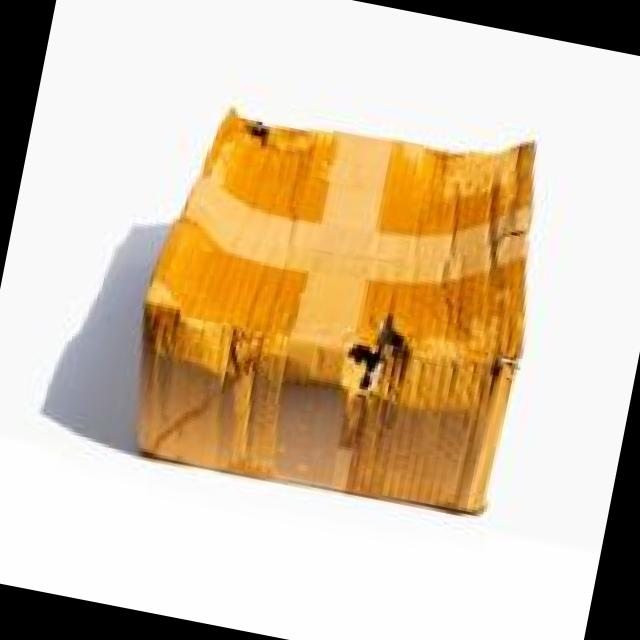box: (138, 108, 538, 516)
crushed: (159, 168, 534, 292), (150, 300, 266, 473)
tear: (337, 306, 420, 398)
